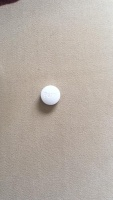Parol: (39, 84, 62, 107)
